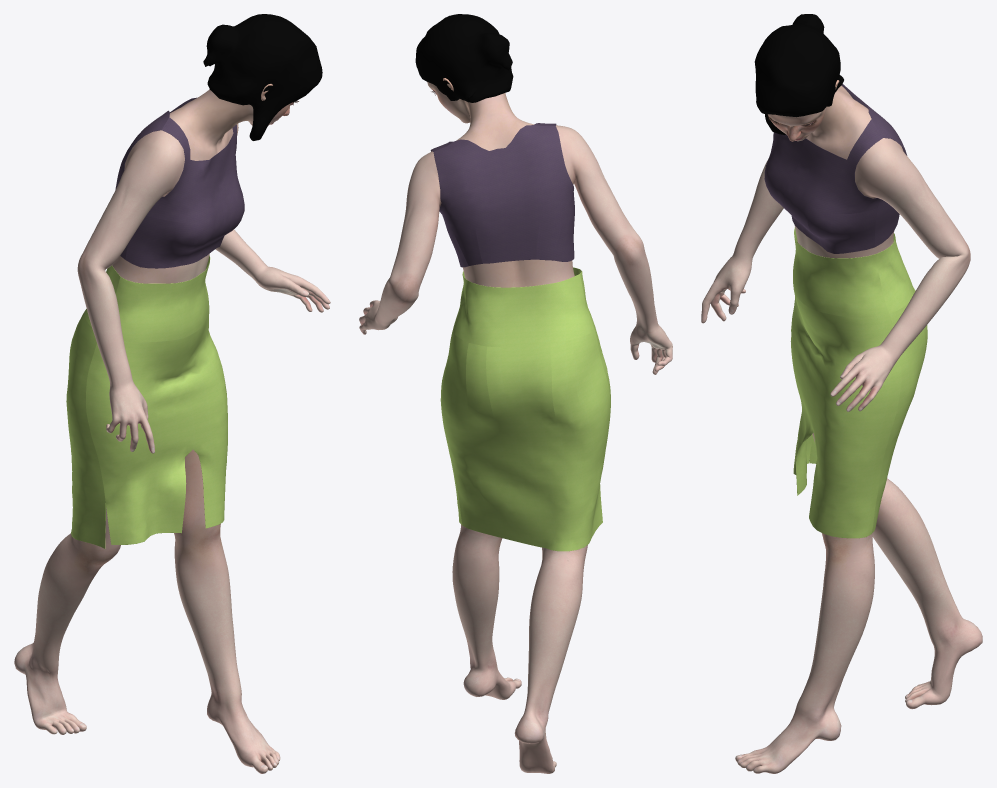
The model's file is Dramatic.obj.
The picture shows the model from 3 angles, left to right: view 1: azimuth 30°, elevation 25°; view 2: azimuth 150°, elevation 25°; view 3: azimuth 270°, elevation 25°; orthographic projection. The views are drawn at different scales.
Size of the model in its own units: 683 by 1739 by 590.
